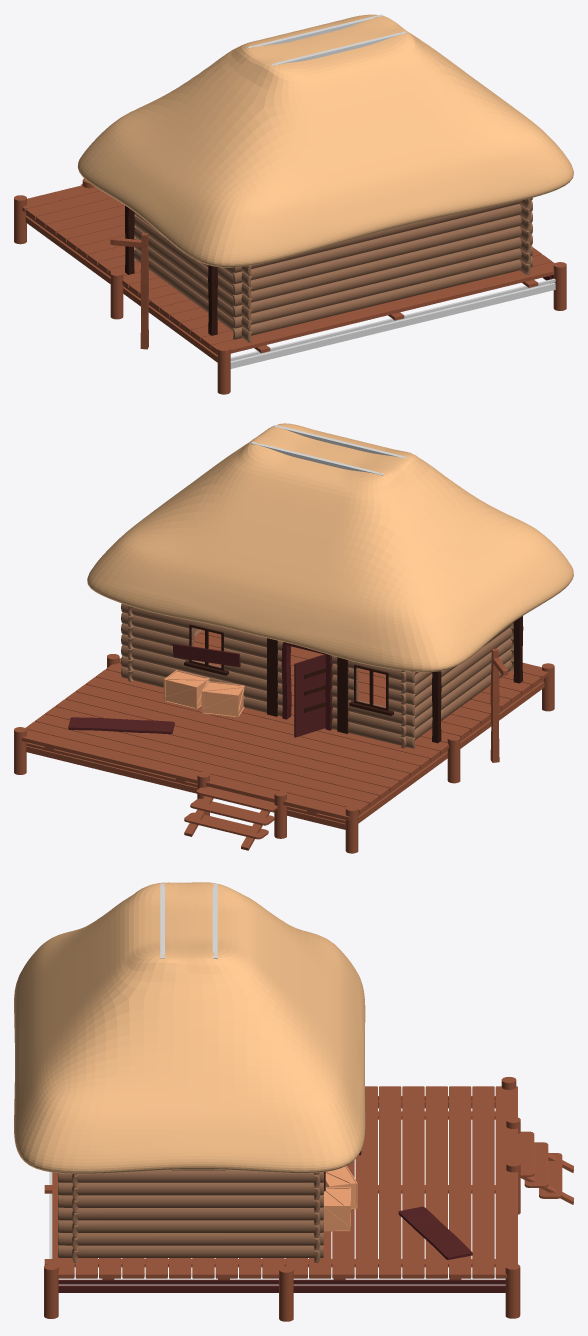
Rendered from hut .fbx.
The picture shows the model from 3 angles, top to bottom: view 1: azimuth 30°, elevation 25°; view 2: azimuth 150°, elevation 25°; view 3: azimuth 270°, elevation 25°; orthographic projection. The views are drawn at different scales.
Visible parts, largest first — view 1: Cube.017, Cube.005, Cube.047, Cube.024, Cylinder.020, Cube.034, Cube.032, Cube.033, Cube.046, Cube.006, Cube.054, Cube.045 (+2 smaller); view 2: Cube.017, Cube.047, Cube.025, Cube.024, Cylinder.020, Cube.016, Cube.026, Cube.028, Cube.018, Cube.052, Cube.027, Cube.032 (+12 smaller); view 3: Cube.017, Cube.047, Cube.006, Cube.031, Cylinder.020, Cube.035, Cube.016, Cube.018, Cube.051, Cube.052, Cube.042, Cube.025.
Boxes of the visible parts, bbox=[...] form: Cube.017: bbox=[77, 14, 573, 267]; Cube.005: bbox=[233, 197, 532, 339]; Cube.047: bbox=[22, 185, 554, 353]; Cube.024: bbox=[134, 212, 251, 342]; Cylinder.020: bbox=[14, 178, 566, 394]; Cube.034: bbox=[230, 283, 555, 368]; Cube.032: bbox=[25, 216, 217, 362]; Cube.033: bbox=[230, 278, 555, 361]; Cube.046: bbox=[110, 232, 148, 349]; Cube.006: bbox=[519, 198, 530, 274]; Cube.054: bbox=[208, 265, 217, 335]; Cube.045: bbox=[271, 31, 406, 65]; Cube.017: bbox=[87, 423, 573, 672]; Cube.047: bbox=[22, 630, 548, 820]; Cube.025: bbox=[121, 603, 415, 748]; Cube.024: bbox=[401, 623, 512, 748]; Cylinder.020: bbox=[14, 654, 554, 853]; Cube.016: bbox=[184, 786, 277, 839]; Cube.026: bbox=[294, 654, 325, 737]; Cube.028: bbox=[26, 746, 345, 829]; Cube.018: bbox=[68, 717, 174, 734]; Cube.052: bbox=[201, 681, 244, 717]; Cube.027: bbox=[281, 642, 333, 730]; Cube.032: bbox=[358, 681, 544, 823]; Cube.017: bbox=[14, 882, 365, 1174]; Cube.047: bbox=[52, 1086, 517, 1278]; Cube.006: bbox=[58, 1169, 323, 1257]; Cube.031: bbox=[58, 1285, 505, 1292]; Cylinder.020: bbox=[44, 1077, 520, 1321]; Cube.035: bbox=[58, 1279, 505, 1284]; Cube.016: bbox=[518, 1131, 562, 1198]; Cube.018: bbox=[398, 1206, 472, 1259]; Cube.051: bbox=[323, 1187, 350, 1231]; Cube.052: bbox=[325, 1166, 357, 1209]; Cube.042: bbox=[44, 1111, 495, 1267]; Cube.025: bbox=[314, 1172, 320, 1262].
Bounding box in the file's own units: 3285 × 2183 × 3634.
